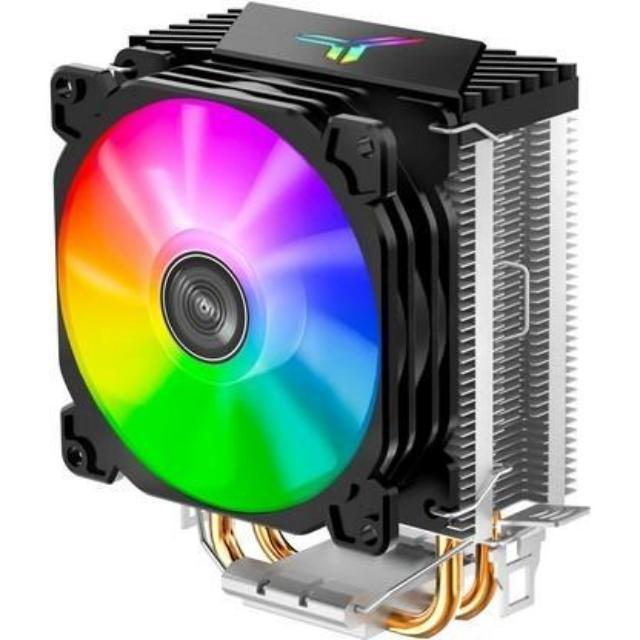CPU_Fan: (57, 0, 600, 634)
